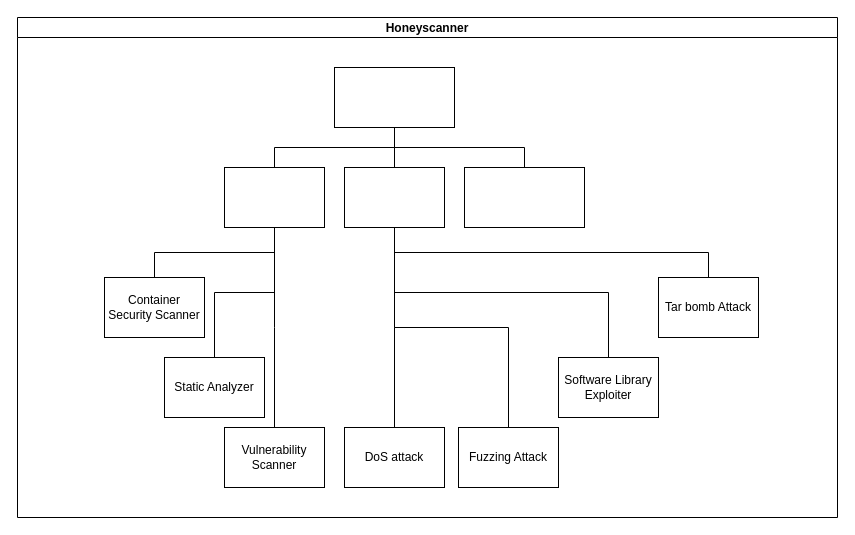
Image size: 855x535. Some labels were removed from this diagram. Here are the shapes that lost their labels. From the top down, the box of each, then its label:
(334, 66, 454, 128): main.py
(224, 166, 324, 228): passive_attacks
(344, 166, 444, 228): active_attacks
(464, 166, 584, 228): report_generator.py
